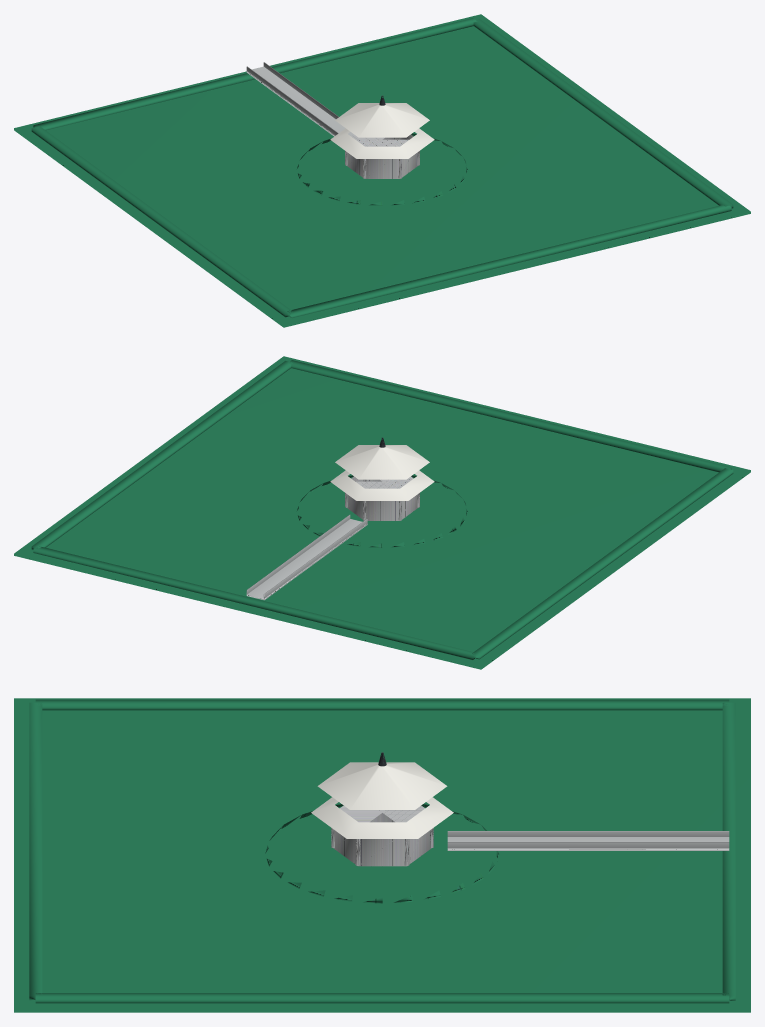
3 views of the same model, one above another, from view 1: azimuth 30°, elevation 25°; view 2: azimuth 150°, elevation 25°; view 3: azimuth 270°, elevation 25° (orthographic). The views are drawn at different scales.
Visible parts, largest first — view 1: pond_island_simplified, roofs_simplified, bridge_simplified, pavilion_body_simplified; view 2: pond_island_simplified, roofs_simplified, bridge_simplified, pavilion_body_simplified; view 3: pond_island_simplified, roofs_simplified, bridge_simplified, pavilion_body_simplified.
Part boxes in pixels (bbox=[...]): pond_island_simplified: bbox=[14, 14, 750, 327]; roofs_simplified: bbox=[330, 95, 434, 158]; bridge_simplified: bbox=[246, 62, 353, 136]; pavilion_body_simplified: bbox=[345, 134, 419, 178]; pond_island_simplified: bbox=[14, 356, 750, 669]; roofs_simplified: bbox=[330, 437, 434, 500]; bridge_simplified: bbox=[246, 514, 367, 600]; pavilion_body_simplified: bbox=[345, 476, 419, 520]; pond_island_simplified: bbox=[14, 698, 750, 1012]; roofs_simplified: bbox=[311, 752, 453, 838]; bridge_simplified: bbox=[447, 831, 729, 850]; pavilion_body_simplified: bbox=[331, 805, 433, 866].
Bounding box in the file's own units: 68 × 10.6 × 68.
3 materials, 3 textured.
